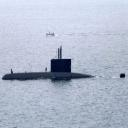submarine: (3, 60, 126, 81)
